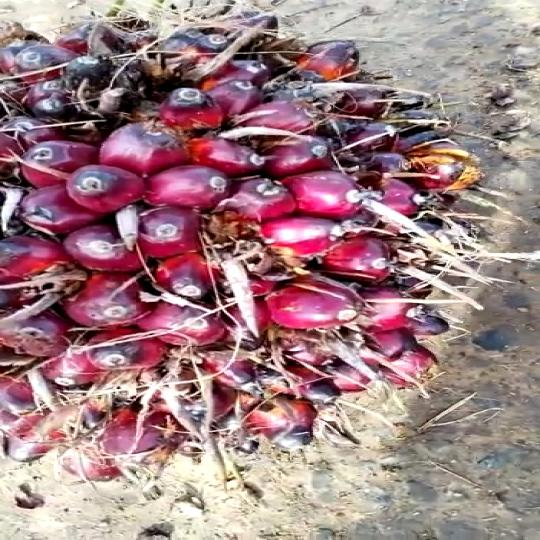masak: (0, 0, 508, 491)
